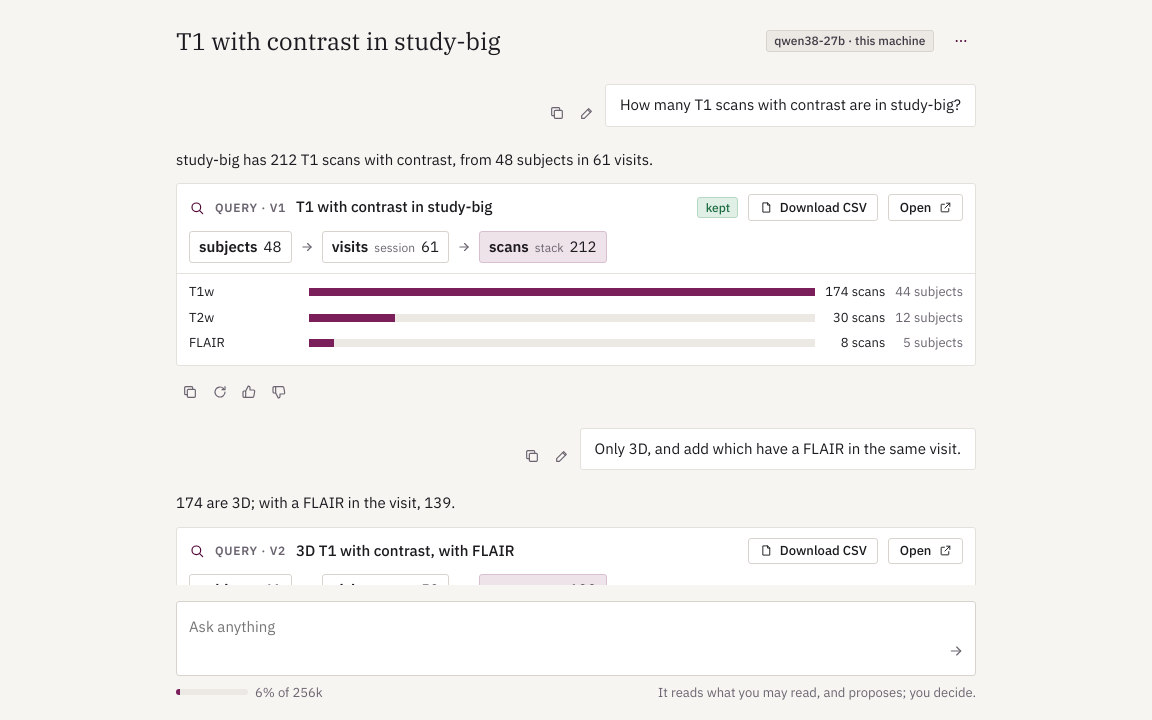
Scenario: keeping a draft the assistant proposed › says a card kept elsewhere is kept, with nothing decided in the conversation, and offers Unkeep rather than Keep
The width and height of the screenshot is (1152, 720).
Click the button "Open" in the row of "kept": [926, 208] box [888,194,963,221]
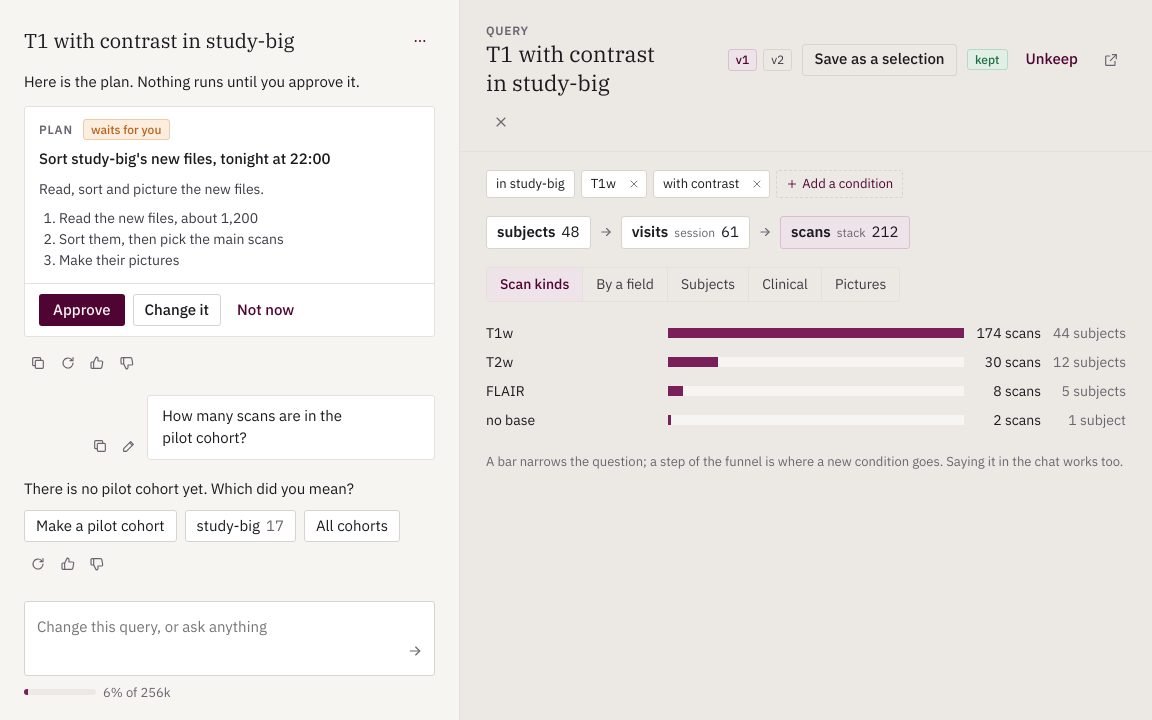
Expected: the text with class "tag" reads "kept", [975,52,999,67]
Expected: the button "Unkeep" is shown, [1018,44,1086,76]
